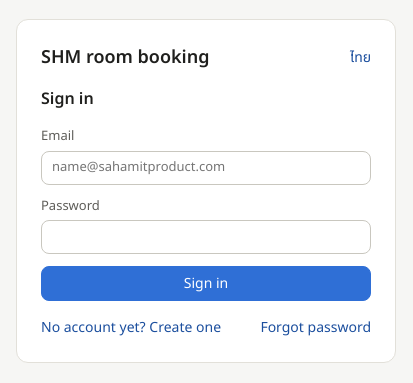
Test: AuthScreen forgot password › still mentions that an admin can reset it
Click the button "Forgot password" at point(316, 328), box [260,317,371,338]
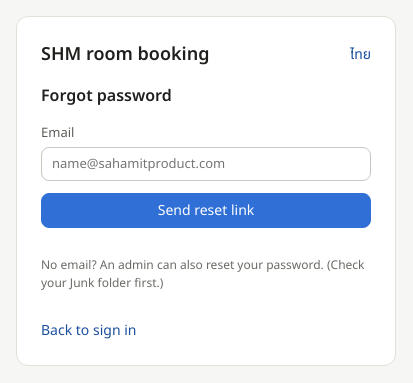
Now the text "No email? An admin can also reset your password" is shown, box [41,256,364,292]
